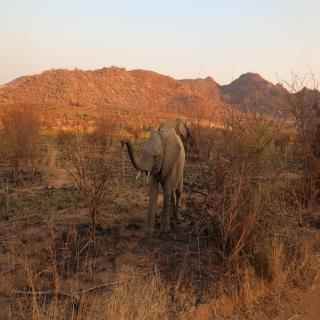Elephant: (120, 122, 189, 232)
